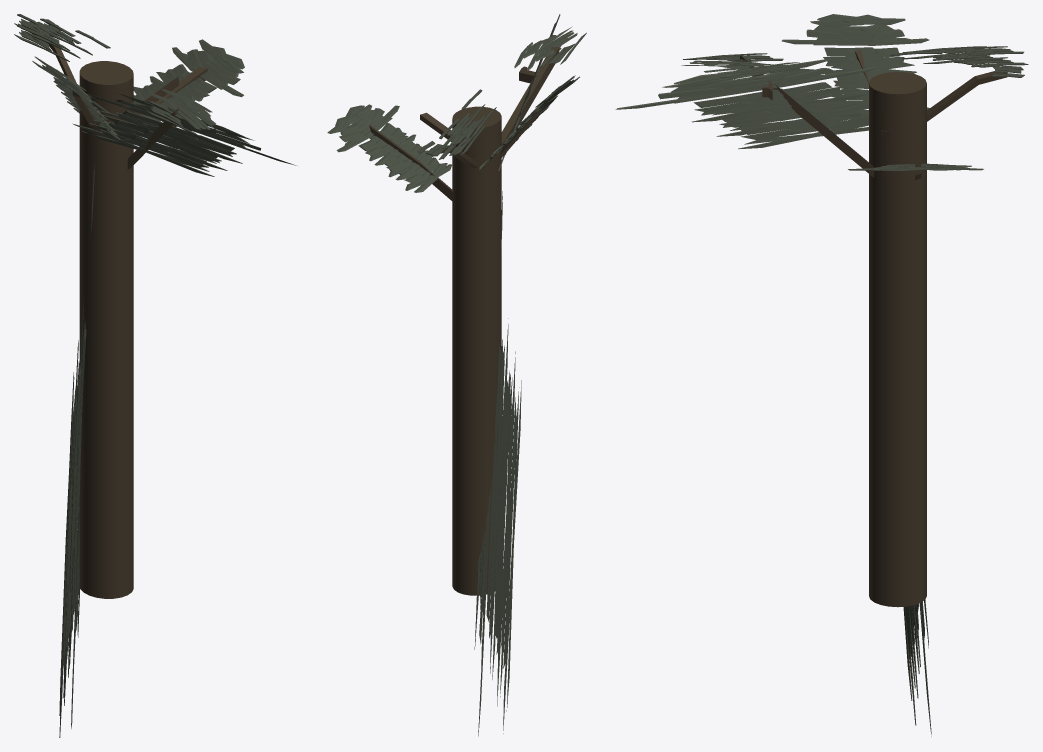
Rendered from tree.fbx.
3 renders of one model, left to right at view 1: azimuth 30°, elevation 25°; view 2: azimuth 150°, elevation 25°; view 3: azimuth 270°, elevation 25°, orthographic. The views are drawn at different scales.
Parts seen in each view (by area): view 1: Tree, pCube10, pCube100, lef3; view 2: Tree, pCube10, lef3, pCube102, pCube101, pCube104, lef5, lef, pCube100, lef4, pCube92, pCube91; view 3: Tree.
Boxes of the visible parts, x1=… form: Tree: x1=47, y1=43, x2=207, y2=598; pCube10: x1=59, y1=372, x2=74, y2=737; pCube100: x1=69, y1=302, x2=83, y2=668; lef3: x1=59, y1=387, x2=73, y2=715; Tree: x1=369, y1=47, x2=559, y2=595; pCube10: x1=503, y1=380, x2=521, y2=733; lef3: x1=506, y1=387, x2=519, y2=711; pCube102: x1=492, y1=360, x2=504, y2=679; pCube101: x1=500, y1=377, x2=512, y2=697; pCube104: x1=497, y1=351, x2=515, y2=706; lef5: x1=486, y1=456, x2=496, y2=622; lef: x1=503, y1=492, x2=513, y2=668; pCube100: x1=490, y1=318, x2=508, y2=673; lef4: x1=495, y1=473, x2=503, y2=638; pCube92: x1=489, y1=462, x2=498, y2=638; pCube91: x1=496, y1=477, x2=506, y2=654; Tree: x1=740, y1=50, x2=1007, y2=607.
Bounding box in the file's own units: 9.6 × 30.88 × 16.55.
